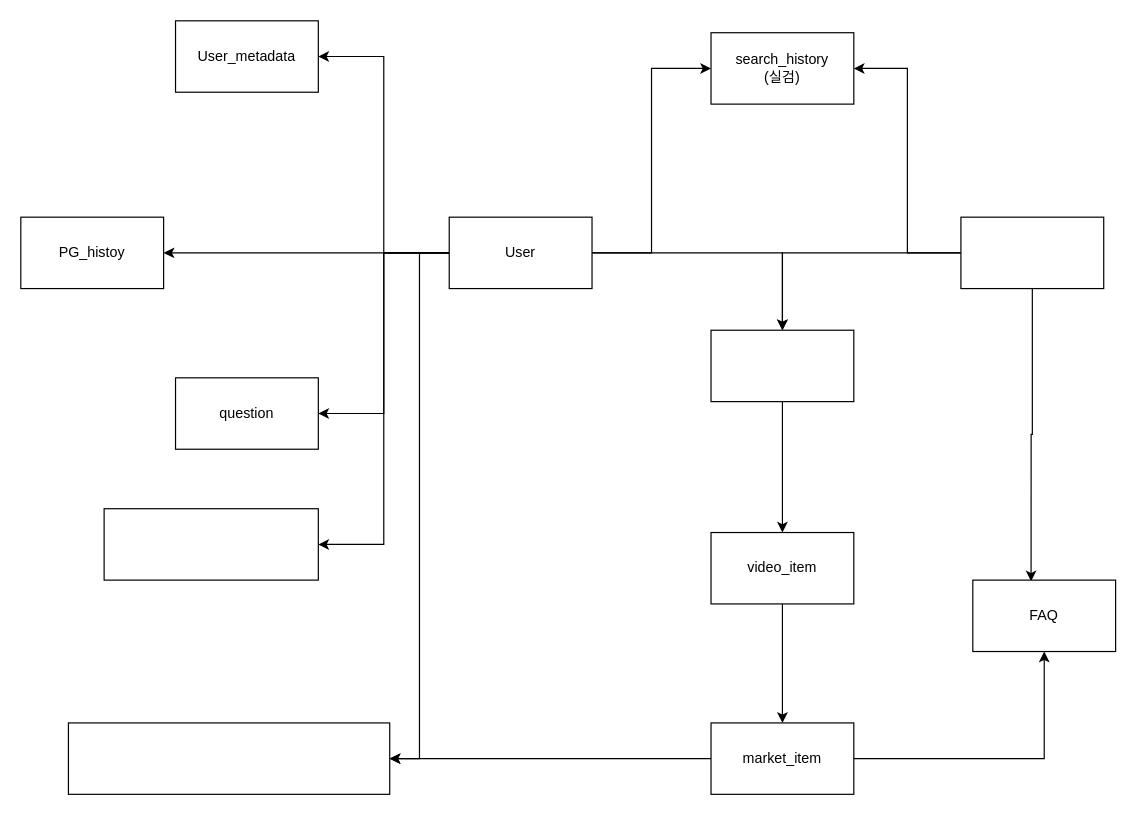
This 1136x815 diagram has some shape labels left out. Each missing label, with the centre of its shape:
"Admin" belongs at point 1032,252.
"like(장바구니 또는 좋아요 등등)" belongs at point 210,544.
"prompt_history" belongs at point 782,365.
"workspace" belongs at point 228,758.
